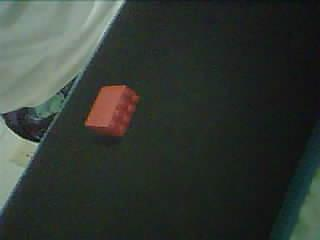lego: (83, 83, 141, 137)
